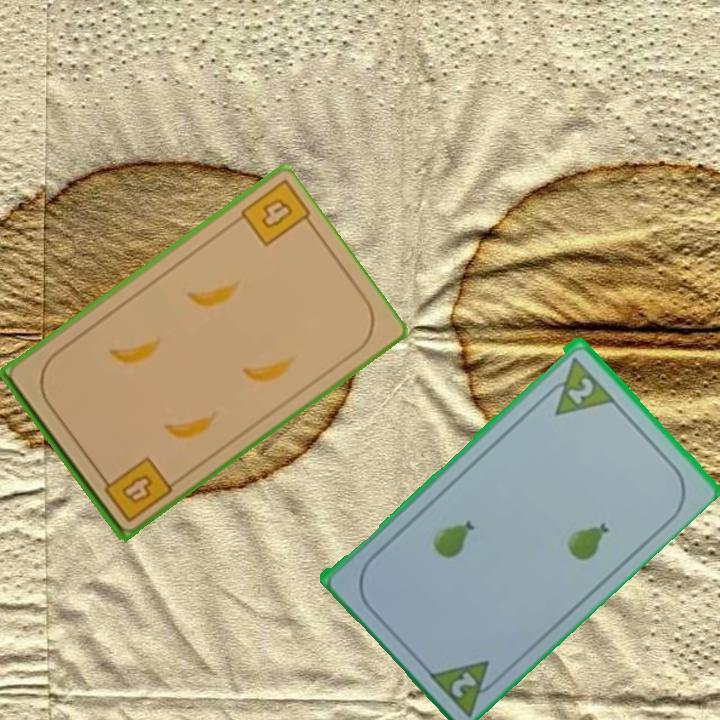2p: (538, 352, 616, 418), (447, 667, 480, 700)
4b: (95, 453, 175, 525), (257, 194, 296, 231)
